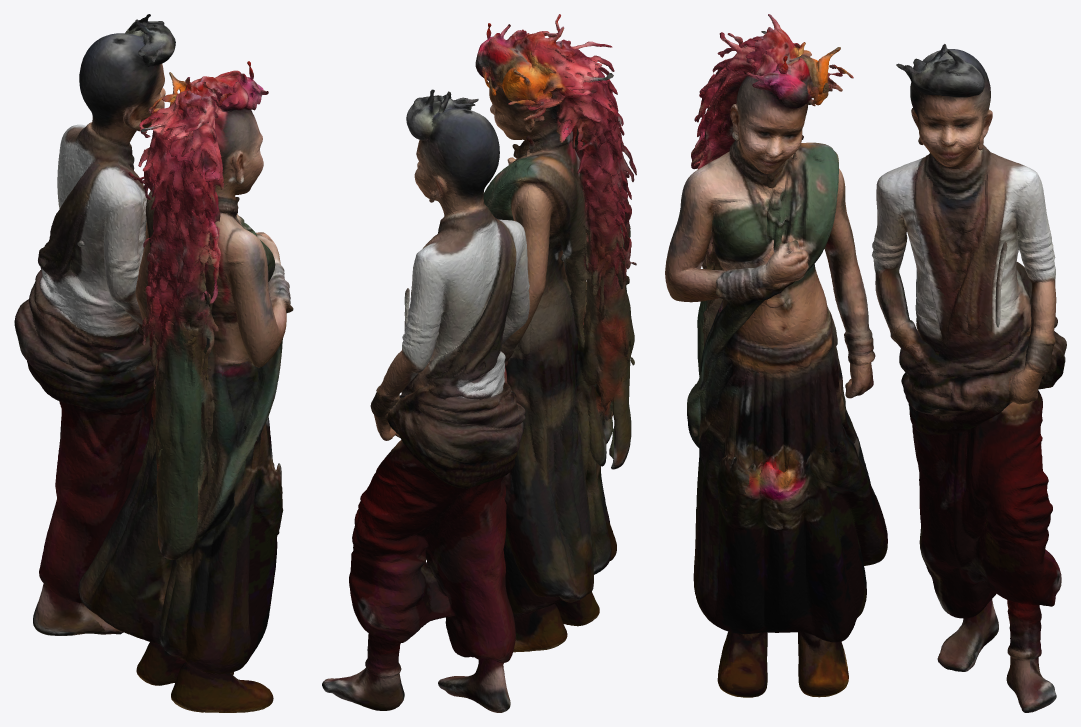
File: modelo53.glb
The picture shows the model from 3 angles, left to right: view 1: azimuth 30°, elevation 25°; view 2: azimuth 150°, elevation 25°; view 3: azimuth 270°, elevation 25°; orthographic projection. The views are drawn at different scales.
Parts seen in each view (by area): view 1: tripo_node_ca21e437-b9c6-4618-ad42-36e3f967e933; view 2: tripo_node_ca21e437-b9c6-4618-ad42-36e3f967e933; view 3: tripo_node_ca21e437-b9c6-4618-ad42-36e3f967e933.
Part boxes in pixels (x1,y1,x2,y2): tripo_node_ca21e437-b9c6-4618-ad42-36e3f967e933: [14, 14, 293, 712]; tripo_node_ca21e437-b9c6-4618-ad42-36e3f967e933: [322, 14, 636, 712]; tripo_node_ca21e437-b9c6-4618-ad42-36e3f967e933: [665, 14, 1066, 712].
Size of the model in its own units: 0.3019 by 1 by 0.5564.
1 material, 1 textured.
